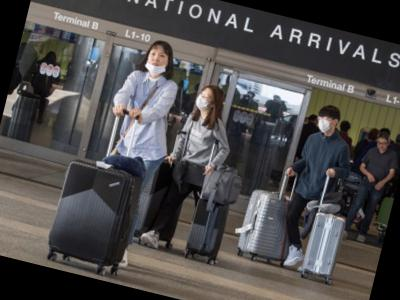mask_weared_incorrect: (142, 47, 170, 80)
with_mask: (193, 89, 215, 116), (315, 113, 335, 136)
without_mask: (375, 137, 389, 152)
